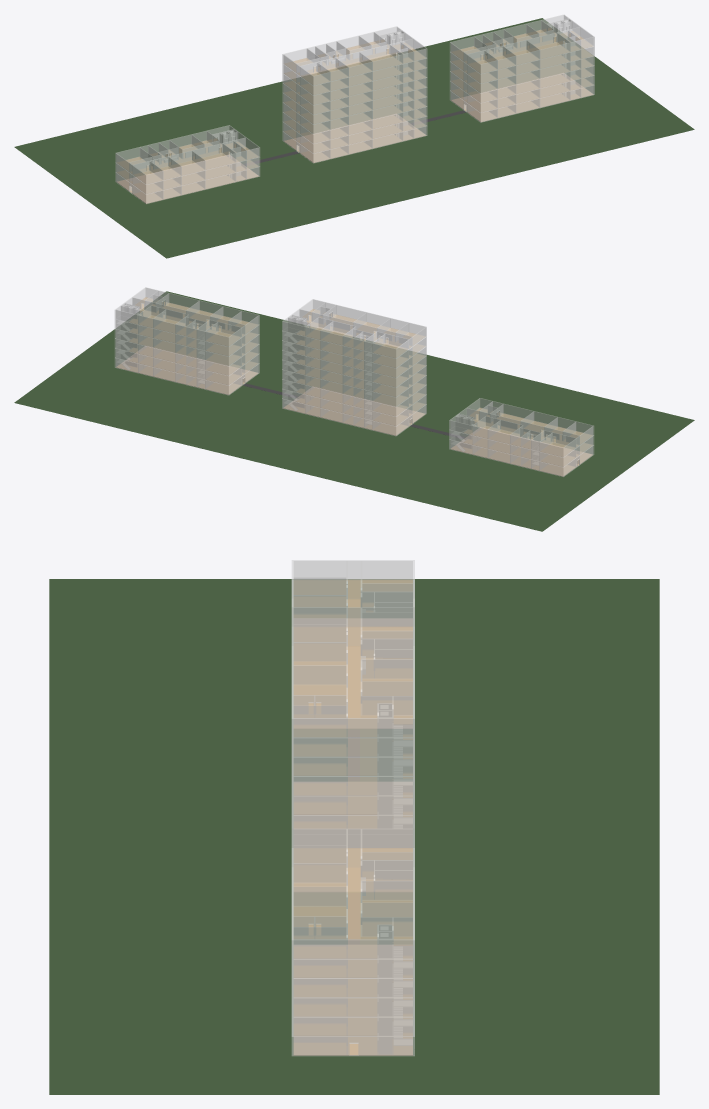
The picture shows the model from 3 angles, top to bottom: view 1: azimuth 30°, elevation 25°; view 2: azimuth 150°, elevation 25°; view 3: azimuth 270°, elevation 25°; orthographic projection. The views are drawn at different scales.
Parts seen in each view (by area): view 1: 地形, 2号楼_9F, 1号楼_3F, 3号楼_6F, 3号楼_1F, 2号楼_1F, 1号楼_1F, 3号楼_5F, 1号楼_2F, 2号楼_8F, 2号楼_3F, 2号楼_7F (+7 smaller); view 2: 地形, 2号楼_9F, 1号楼_3F, 3号楼_6F, 1号楼_1F, 3号楼_1F, 2号楼_1F, 3号楼_5F, 1号楼_2F, 2号楼_8F, 3号楼_3F, 2号楼_7F (+7 smaller); view 3: 地形, 2号楼_9F, 3号楼_6F, 3号楼_1F, 2号楼_1F, 1号楼_1F, 1号楼_3F, 3号楼_5F, 2号楼_8F, 3号楼_3F, 2号楼_7F, 2号楼_5F (+5 smaller).
Part boxes in pixels (x1=…): 地形: x1=14, y1=18, x2=694, y2=258; 2号楼_9F: x1=282, y1=26, x2=427, y2=85; 1号楼_3F: x1=115, y1=125, x2=260, y2=184; 3号楼_6F: x1=449, y1=14, x2=594, y2=73; 3号楼_1F: x1=449, y1=73, x2=594, y2=122; 2号楼_1F: x1=282, y1=114, x2=427, y2=163; 1号楼_1F: x1=115, y1=155, x2=260, y2=203; 3号楼_5F: x1=449, y1=27, x2=594, y2=83; 1号楼_2F: x1=115, y1=138, x2=260, y2=194; 2号楼_8F: x1=282, y1=39, x2=427, y2=95; 2号楼_3F: x1=282, y1=106, x2=427, y2=144; 2号楼_7F: x1=282, y1=67, x2=427, y2=105; 地形: x1=14, y1=291, x2=694, y2=531; 2号楼_9F: x1=282, y1=299, x2=426, y2=358; 1号楼_3F: x1=449, y1=398, x2=594, y2=457; 3号楼_6F: x1=114, y1=287, x2=259, y2=346; 1号楼_1F: x1=449, y1=427, x2=594, y2=476; 3号楼_1F: x1=114, y1=346, x2=259, y2=395; 2号楼_1F: x1=282, y1=387, x2=426, y2=436; 3号楼_5F: x1=114, y1=297, x2=259, y2=356; 1号楼_2F: x1=449, y1=408, x2=594, y2=467; 2号楼_8F: x1=282, y1=309, x2=426, y2=368; 3号楼_3F: x1=114, y1=335, x2=259, y2=375; 2号楼_7F: x1=282, y1=337, x2=426, y2=377; 地形: x1=49, y1=579, x2=659, y2=1094; 2号楼_9F: x1=291, y1=607, x2=414, y2=738; 3号楼_6F: x1=291, y1=828, x2=414, y2=959; 3号楼_1F: x1=291, y1=945, x2=414, y2=1056; 2号楼_1F: x1=294, y1=782, x2=412, y2=891; 1号楼_1F: x1=294, y1=618, x2=412, y2=728; 1号楼_3F: x1=291, y1=560, x2=414, y2=626; 3号楼_5F: x1=291, y1=848, x2=414, y2=978; 2号楼_8F: x1=291, y1=627, x2=414, y2=757; 3号楼_3F: x1=291, y1=979, x2=414, y2=1017; 2号楼_7F: x1=291, y1=738, x2=414, y2=776; 2号楼_5F: x1=291, y1=777, x2=414, y2=815.
Size of the model in its own units: 200000 by 100000 by 31510.
